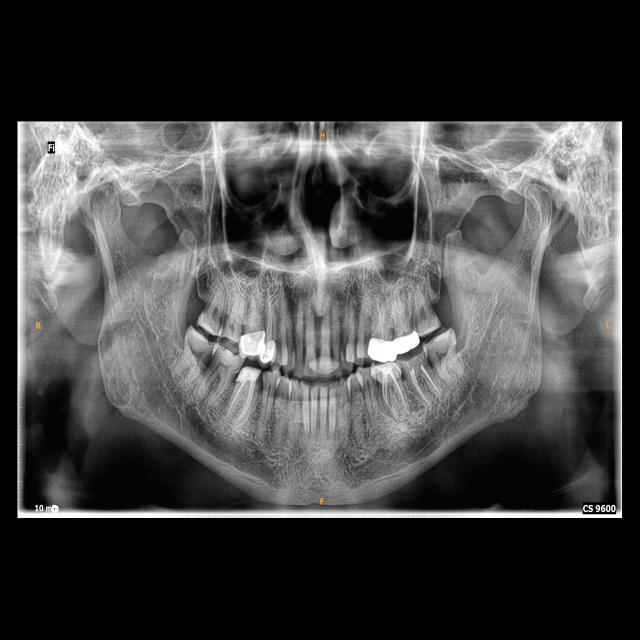kanal-tedavisi: (406, 367, 444, 398), (381, 380, 410, 413), (233, 380, 256, 416), (262, 296, 276, 339)
kaplama: (366, 334, 397, 362), (237, 330, 264, 354), (372, 362, 402, 383), (235, 364, 261, 384), (395, 332, 420, 352), (262, 340, 276, 364)
